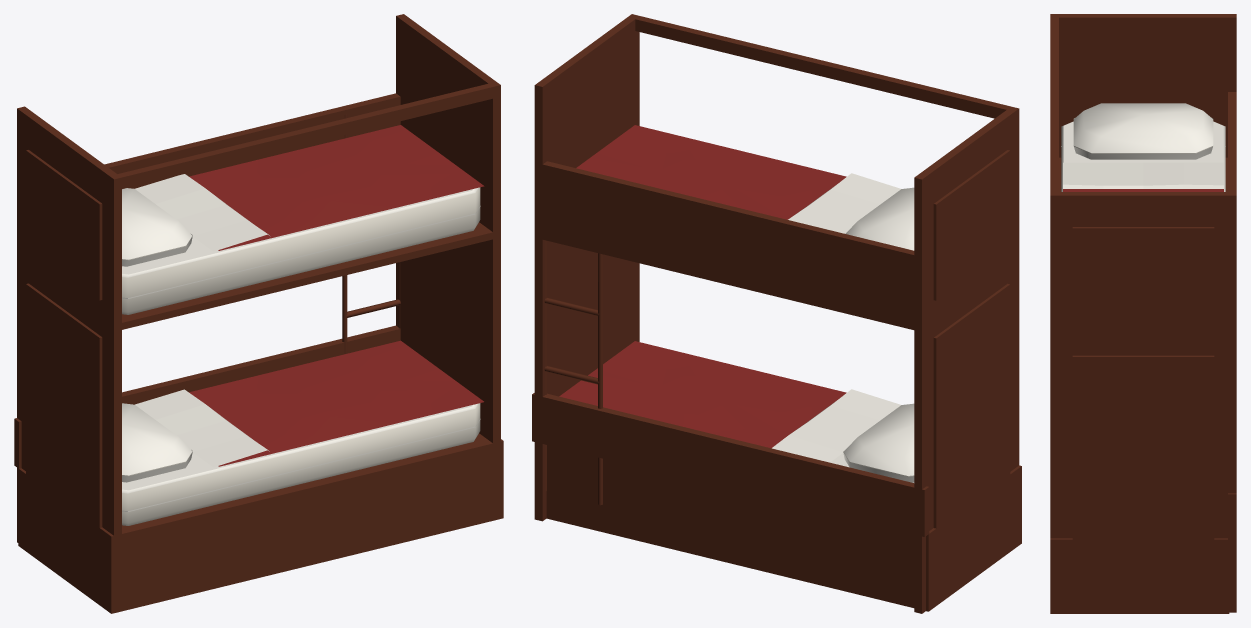
Rendered from parametric-sized-berth-double-l175-2nd.glb.
3 renders of one model, left to right at view 1: azimuth 30°, elevation 25°; view 2: azimuth 150°, elevation 25°; view 3: azimuth 270°, elevation 25°, orthographic. The views are drawn at different scales.
Parts seen in each view (by area): view 1: parametric-sized-berth-double-l175-2nd; view 2: parametric-sized-berth-double-l175-2nd; view 3: parametric-sized-berth-double-l175-2nd.
Boxes of the visible parts, x1=… form: parametric-sized-berth-double-l175-2nd: x1=14, y1=14, x2=503, y2=613; parametric-sized-berth-double-l175-2nd: x1=532, y1=14, x2=1021, y2=613; parametric-sized-berth-double-l175-2nd: x1=1050, y1=14, x2=1236, y2=613.
Bounding box in the file's own units: 1.75 × 1.85 × 0.75.
